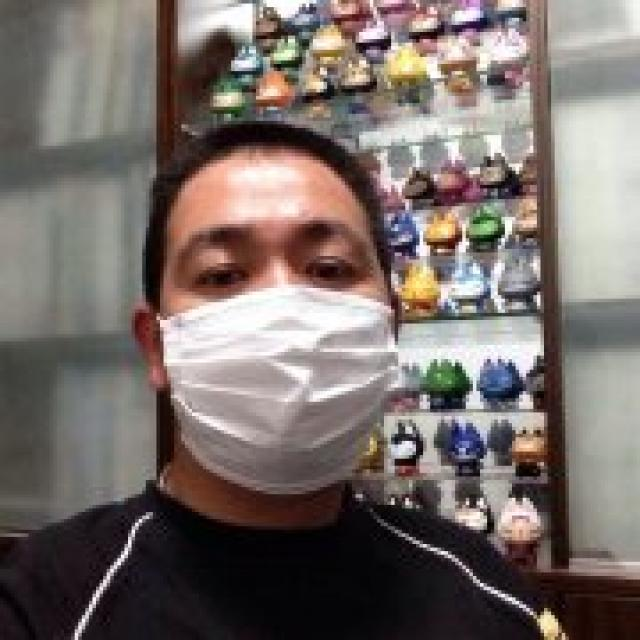mask: (162, 153, 386, 480)
